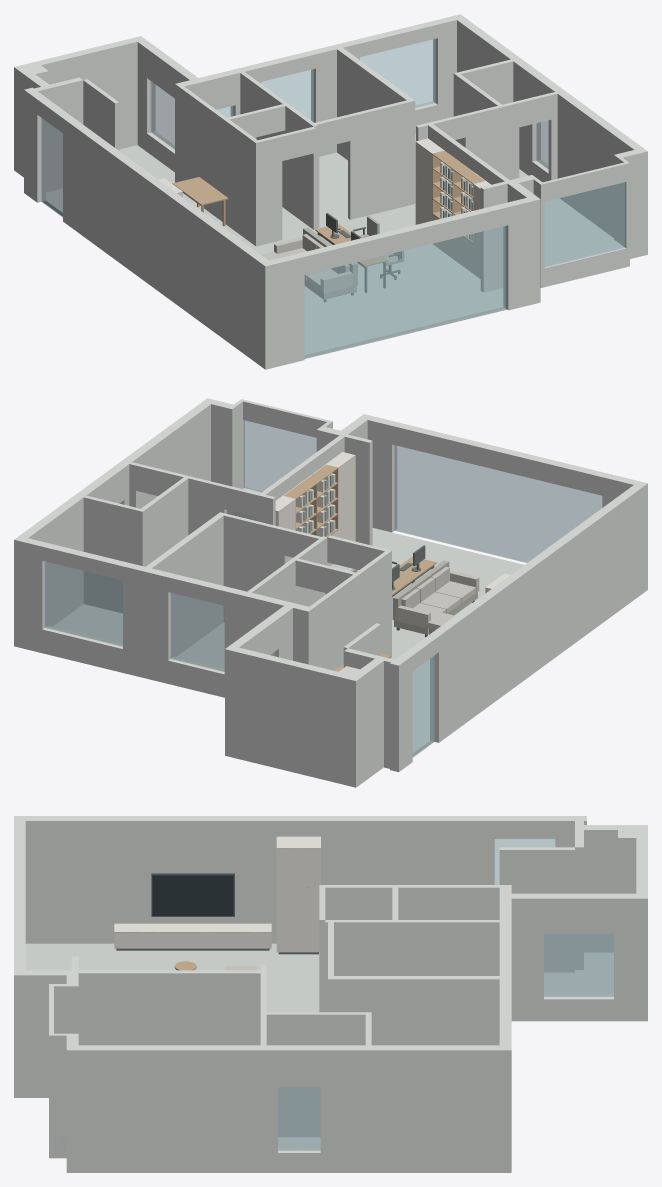
Rendered from baseline-v04-house-structure.glb.
The picture shows the model from 3 angles, top to bottom: view 1: azimuth 30°, elevation 25°; view 2: azimuth 150°, elevation 25°; view 3: azimuth 270°, elevation 25°; orthographic projection. The views are drawn at different scales.
Visible parts, largest first — view 1: outer-left-0, floor, outer-top-glass-0, lower-centre-top-end, lower-narrow-left-end, outer-right-0, bay-front-glass-0, lower-projection-bottom-end, outer-top-0, outer-top-lintel-0, lower-narrow-right-end, outer-top-end (+47 smaller); view 2: outer-left-0, outer-top-glass-0, lower-projection-bottom-end, floor, lower-narrow-left-end, front-facade-2, outer-right-end, front-facade-glass-2, lower-centre-right-end, outer-top-lintel-0, right-small-bottom-end, outer-right-0 (+43 smaller); view 3: outer-left-0, outer-right-0, outer-right-end, retained-central-right-end, floor, lower-centre-right-end, lower-narrow-right-end, lower-narrow-left-end, right-small-left-end, tv-high-case-body, left-short-partition-end, lower-projection-right-glass-0 (+28 smaller).
Boxes of the visible parts, left/top/right/bottom form: outer-left-0: left=63, top=116, right=273, bottom=369; floor: left=42, top=133, right=613, bottom=358; outer-top-glass-0: left=304, top=226, right=505, bottom=357; lower-centre-top-end: left=348, top=99, right=415, bottom=219; lower-narrow-left-end: left=180, top=86, right=257, bottom=244; outer-right-0: left=550, top=86, right=642, bottom=237; bay-front-glass-0: left=544, top=182, right=625, bottom=267; lower-projection-bottom-end: left=14, top=36, right=145, bottom=173; outer-top-0: left=260, top=253, right=304, bottom=369; outer-top-lintel-0: left=300, top=203, right=508, bottom=274; lower-narrow-right-end: left=240, top=72, right=317, bottom=229; outer-top-end: left=503, top=195, right=540, bottom=310; outer-left-0: left=430, top=481, right=647, bottom=742; outer-top-glass-0: left=394, top=445, right=602, bottom=562; lower-projection-bottom-end: left=225, top=646, right=361, bottom=787; floor: left=53, top=528, right=524, bottom=756; lower-narrow-left-end: left=309, top=551, right=389, bottom=670; front-facade-2: left=123, top=562, right=173, bottom=683; outer-right-end: left=14, top=479, right=105, bottom=648; front-facade-glass-2: left=44, top=561, right=122, bottom=646; lower-centre-right-end: left=146, top=514, right=223, bottom=657; outer-top-lintel-0: left=392, top=422, right=606, bottom=495; right-small-bottom-end: left=83, top=495, right=145, bottom=613; outer-right-0: left=116, top=402, right=210, bottom=508; outer-left-0: left=14, top=816, right=494, bottom=943; outer-right-0: left=78, top=1045, right=277, bottom=1172; outer-right-end: left=320, top=1045, right=511, bottom=1172; retained-central-right-end: left=78, top=970, right=266, bottom=1045; floor: left=25, top=943, right=613, bottom=1147; lower-centre-right-end: left=334, top=976, right=499, bottom=1045; lower-narrow-right-end: left=325, top=920, right=499, bottom=1012; lower-narrow-left-end: left=325, top=885, right=499, bottom=919; right-small-left-end: left=266, top=1012, right=371, bottom=1137; tv-high-case-body: left=276, top=836, right=320, bottom=952; left-short-partition-end: left=499, top=847, right=574, bottom=972; lower-projection-right-glass-0: left=544, top=933, right=613, bottom=996.
Size of the model in its own units: 11.27 by 2.85 by 12.89.
